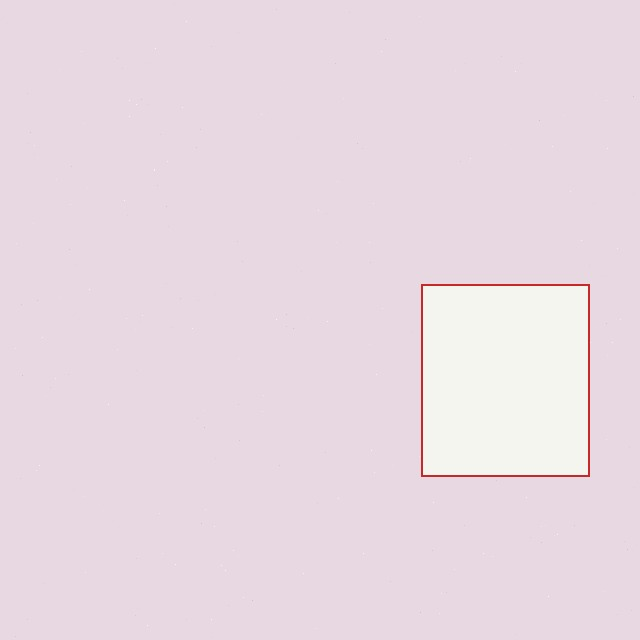book: (421, 284, 589, 476)
